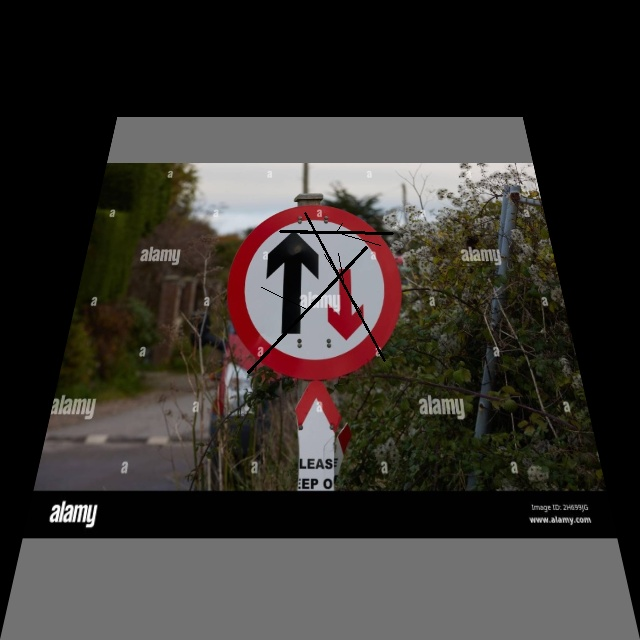Priority_for_Oncoming_Traffic: (220, 204, 409, 380)
